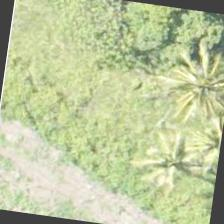Kelapa_Sawit: (118, 113, 220, 214), (151, 34, 223, 134)
